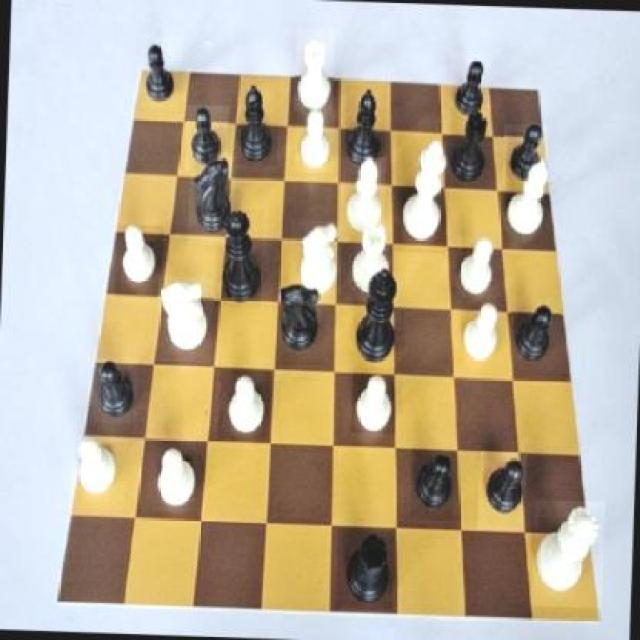bishop: (237, 72, 280, 166), (343, 86, 386, 177)
black-bishop: (352, 263, 406, 371)
black-king: (271, 277, 327, 366), (188, 153, 237, 244)
black-knight: (477, 451, 526, 531), (509, 297, 560, 371), (90, 356, 138, 424), (138, 34, 181, 109), (448, 51, 490, 127), (411, 448, 455, 520), (184, 105, 228, 172), (502, 124, 548, 188)
black-pawn: (215, 210, 263, 308)
black-queen: (336, 529, 394, 610), (448, 106, 494, 189)
black-rook: (338, 156, 386, 246), (503, 160, 548, 246)
white-bishop: (394, 134, 451, 254)
white-king: (155, 277, 213, 363), (290, 220, 342, 306)
white-knight: (69, 436, 126, 512), (152, 443, 205, 520), (114, 225, 164, 300), (217, 369, 270, 439), (351, 368, 397, 434), (456, 237, 500, 305), (458, 297, 501, 365), (296, 109, 336, 173)
white-pawn: (532, 500, 606, 609)
white-queen: (292, 29, 335, 114), (346, 222, 389, 300)
